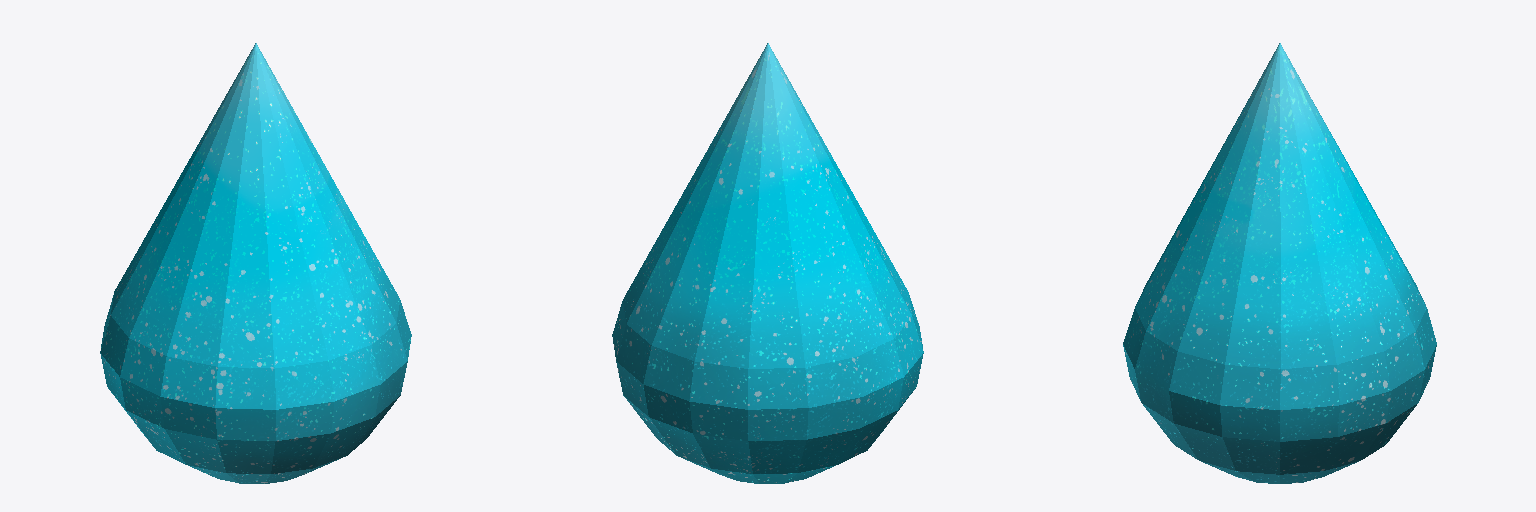
3 views of the same model, side by side, from view 1: azimuth 30°, elevation 25°; view 2: azimuth 150°, elevation 25°; view 3: azimuth 270°, elevation 25° (orthographic).
Parts seen in each view (by area): view 1: Sphere; view 2: Sphere; view 3: Sphere.
Part boxes in pixels (x1,y1,x2,y2): Sphere: (100,43,411,483); Sphere: (612,43,923,483); Sphere: (1123,43,1436,483).
Size of the model in its own units: 1.37 by 2.05 by 1.37.
Materials: 1 (1 with a texture image).